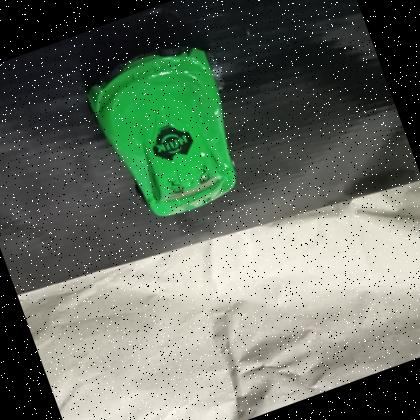Car: (70, 22, 272, 240)
